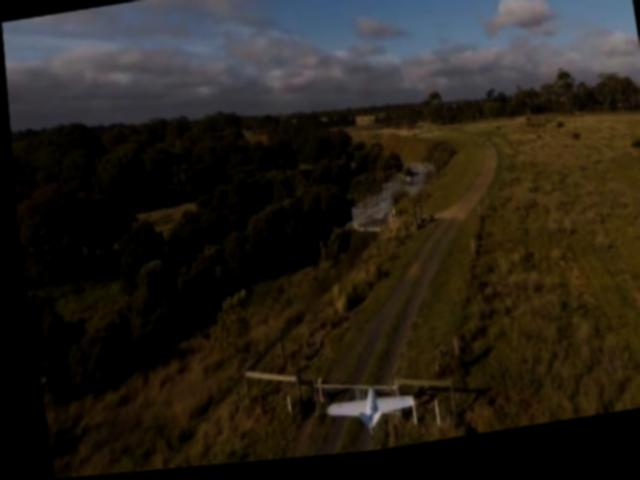uav: (319, 387, 419, 440)
